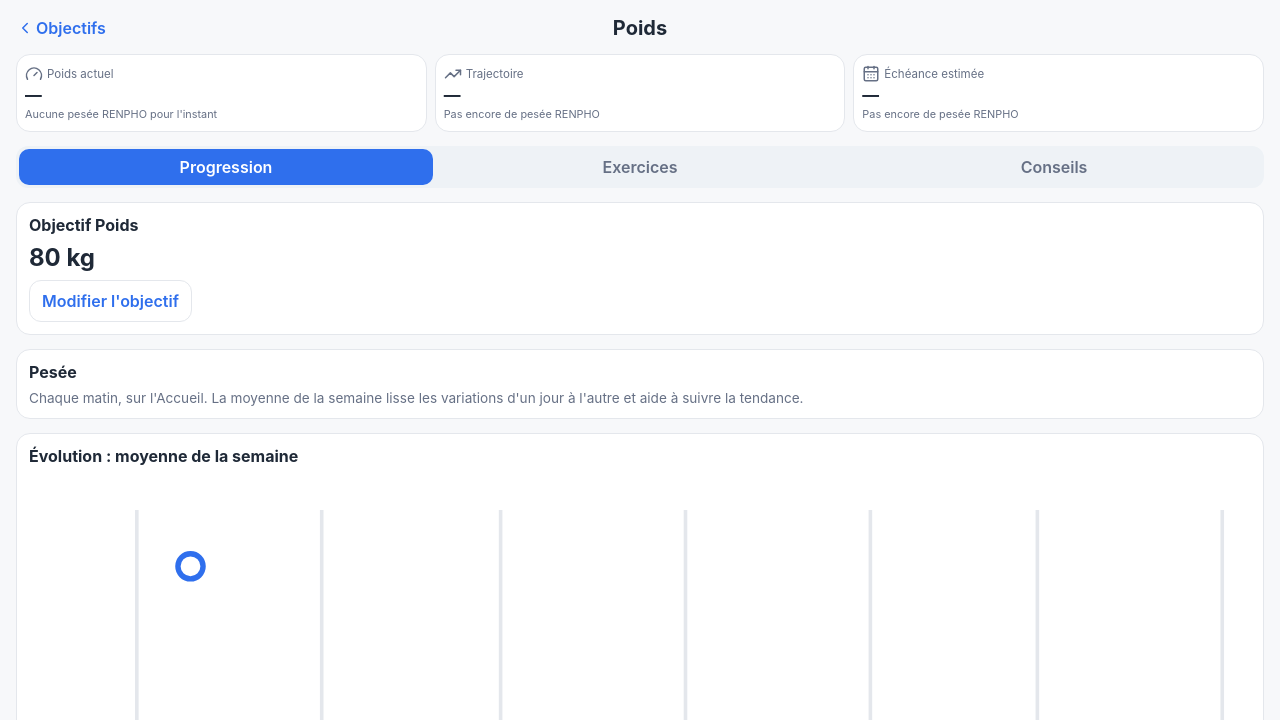
Test: objectif Poids, en clair › la feuille parle d'objectif, jamais de cible ; modifier l'objectif ne touche pas la cible de composition
Click the button "Modifier l'objectif" at (110, 301), box [29,280,192,322]
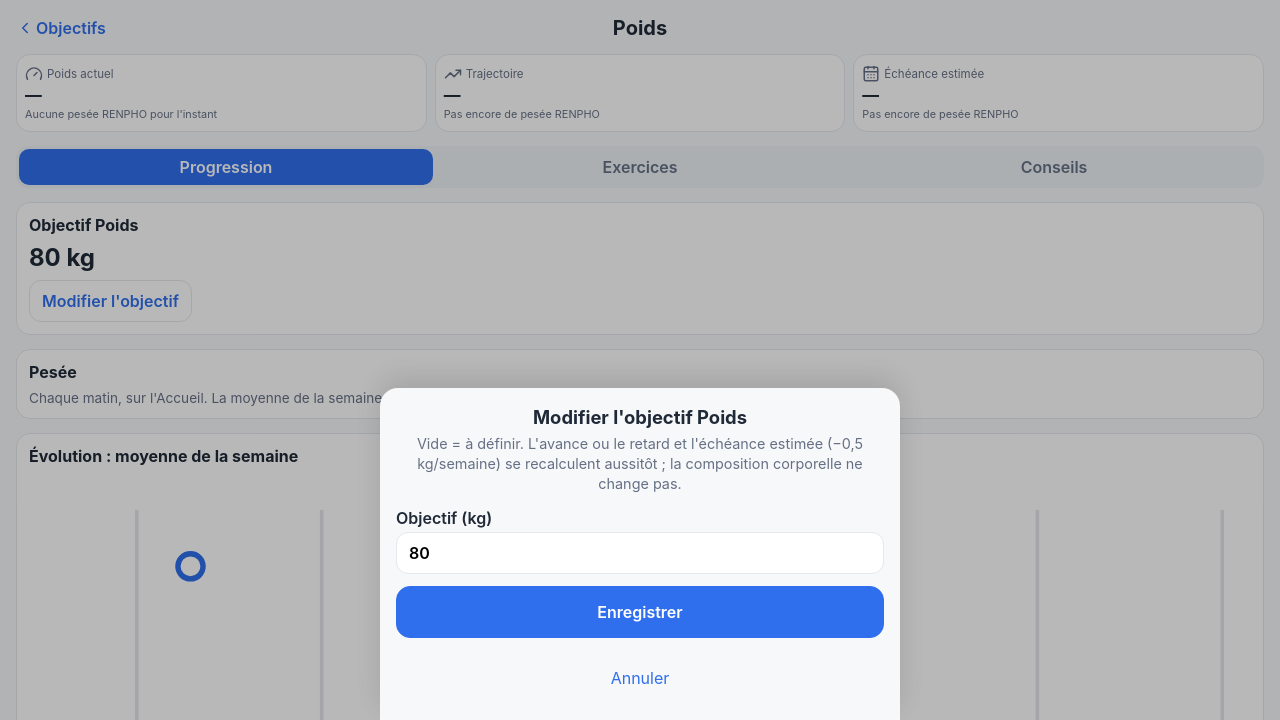
Expected: the dialog does not show "cible"
Expected: the heading "Modifier l'objectif Poids" is shown, [533,406,747,428]
Expected: the field named "Objectif en kg" holds "80"
Replace the text in the field named "Objectif en kg" with "82" at (640, 553), box [396,532,884,574]
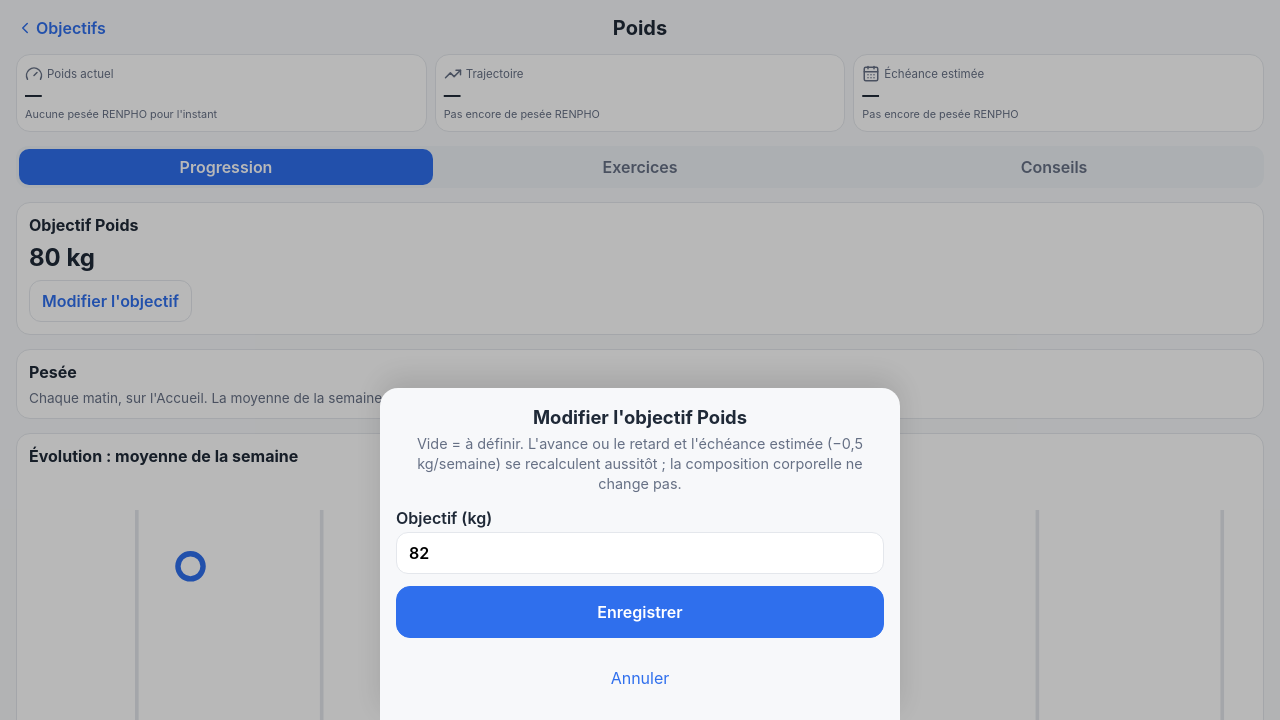
Click the button "Enregistrer" at (640, 612), box [396,586,884,638]
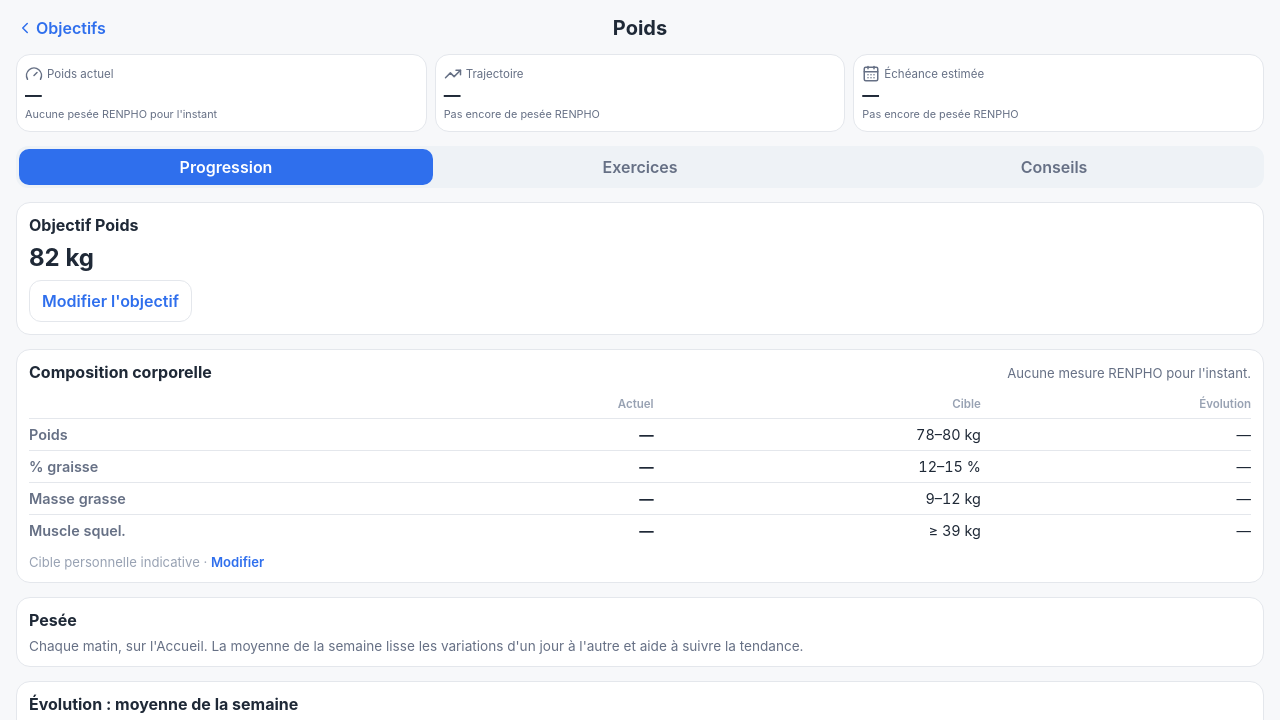
Expected: the text "82 kg" is shown, [29,243,94,272]
Expected: the text "78–80 kg" is shown, [654,419,981,451]
